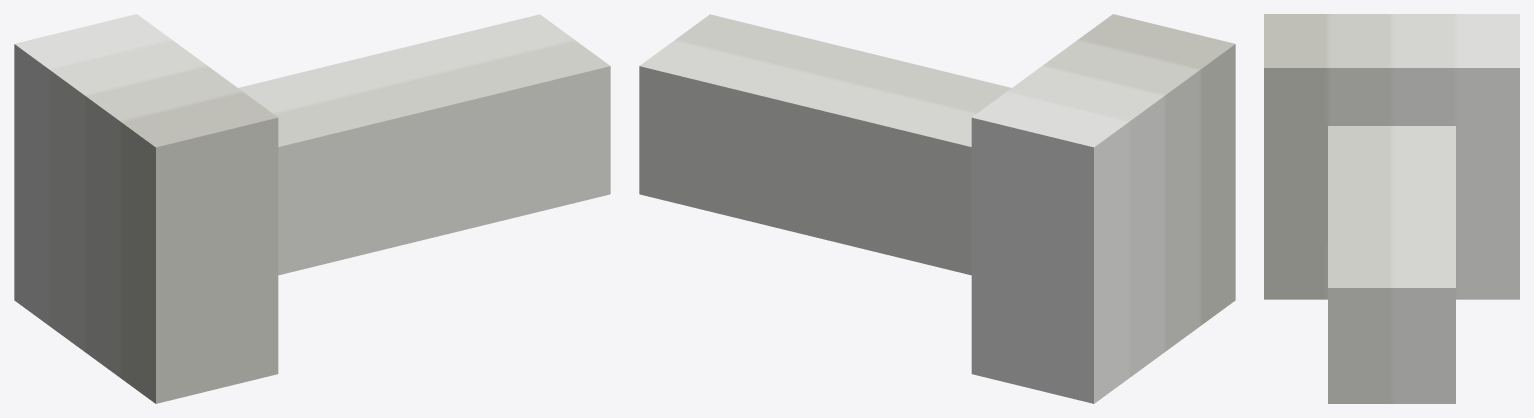
File: Shoulder072.fbx
3 views of the same model, side by side, from view 1: azimuth 30°, elevation 25°; view 2: azimuth 150°, elevation 25°; view 3: azimuth 270°, elevation 25° (orthographic). The views are drawn at different scales.
Parts seen in each view (by area): view 1: Shoulder072; view 2: Shoulder072; view 3: Shoulder072.
Part boxes in pixels (x1,y1,x2,y2): Shoulder072: [14, 14, 610, 403]; Shoulder072: [639, 14, 1235, 403]; Shoulder072: [1264, 14, 1519, 403].
Bounding box in the file's own units: 8 × 4 × 4.
